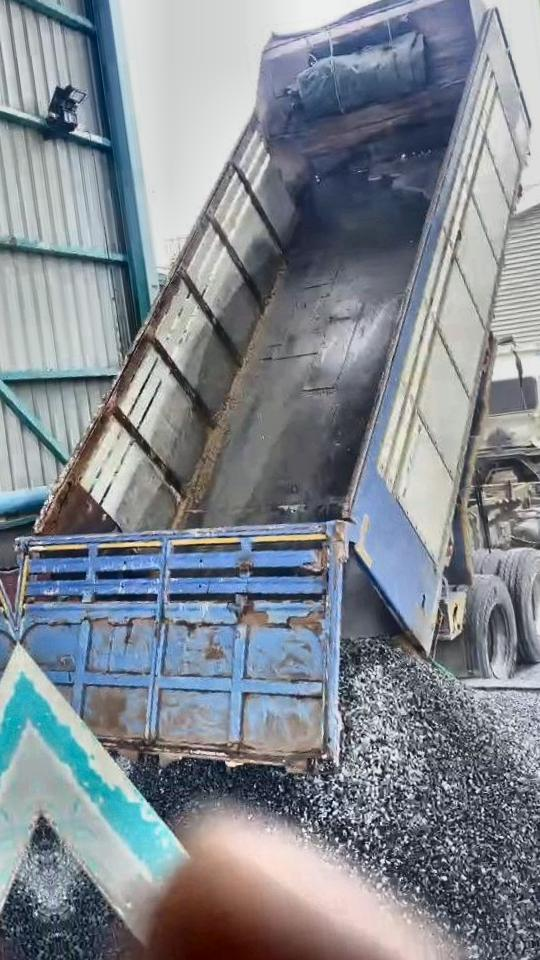gravel: (133, 642, 540, 950), (41, 815, 122, 960)
